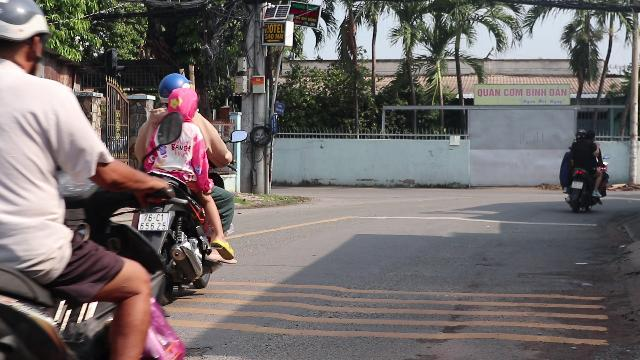helmet: (0, 0, 50, 74), (166, 88, 198, 118), (157, 72, 191, 96)
licenseplate: (138, 212, 168, 230)
motorcyclist: (0, 0, 186, 358), (127, 68, 239, 304)
